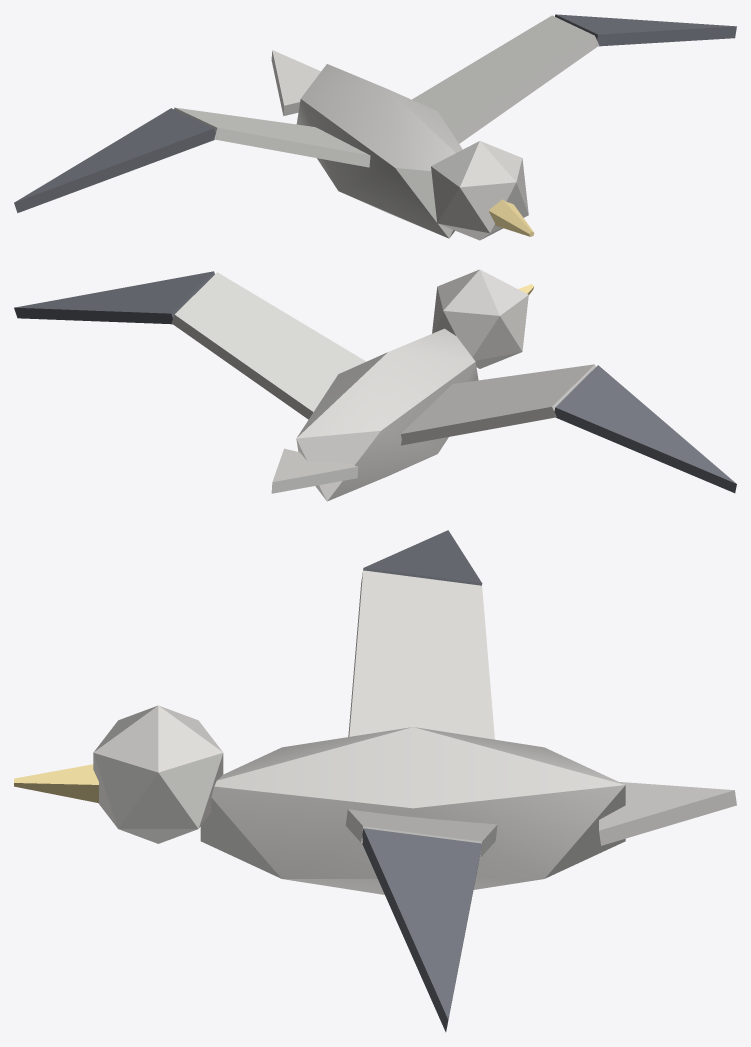
The model's file is Seagull.fbx.
The picture shows the model from 3 angles, top to bottom: view 1: azimuth 30°, elevation 25°; view 2: azimuth 150°, elevation 25°; view 3: azimuth 270°, elevation 25°; orthographic projection. The views are drawn at different scales.
Visible parts, largest first — view 1: Seagull; view 2: Seagull; view 3: Seagull.
Boxes of the visible parts, <box> form: Seagull: <box>14,14,736,240</box>; Seagull: <box>14,269,736,501</box>; Seagull: <box>14,530,736,1032</box>.
Bounding box in the file's own units: 1.37 × 0.2616 × 0.8512.
